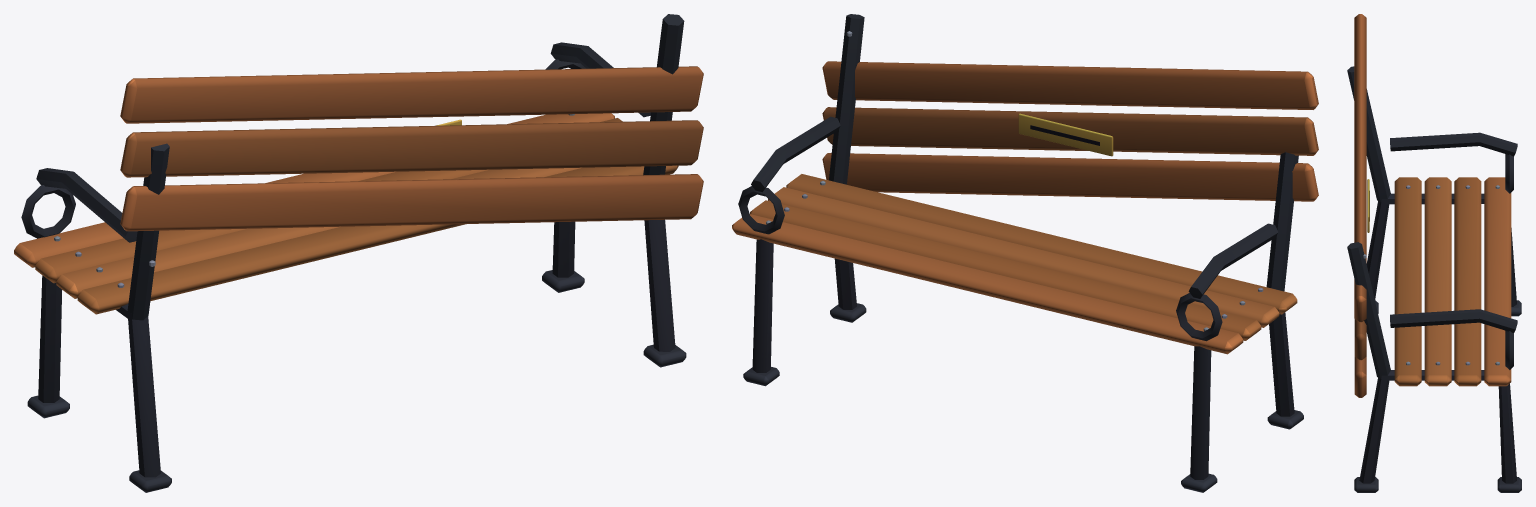
Rendered from SM_City_ParkBench.fbx.
The picture shows the model from 3 angles, left to right: view 1: azimuth 30°, elevation 25°; view 2: azimuth 150°, elevation 25°; view 3: azimuth 270°, elevation 25°; orthographic projection. The views are drawn at different scales.
Parts seen in each view (by area): view 1: SM_City_ParkBench; view 2: SM_City_ParkBench; view 3: SM_City_ParkBench.
Boxes of the visible parts, x1=… form: SM_City_ParkBench: x1=14, y1=14, x2=703, y2=492; SM_City_ParkBench: x1=732, y1=14, x2=1318, y2=492; SM_City_ParkBench: x1=1347, y1=14, x2=1521, y2=492.
Bounding box in the file's own units: 160 × 108 × 58.57.
